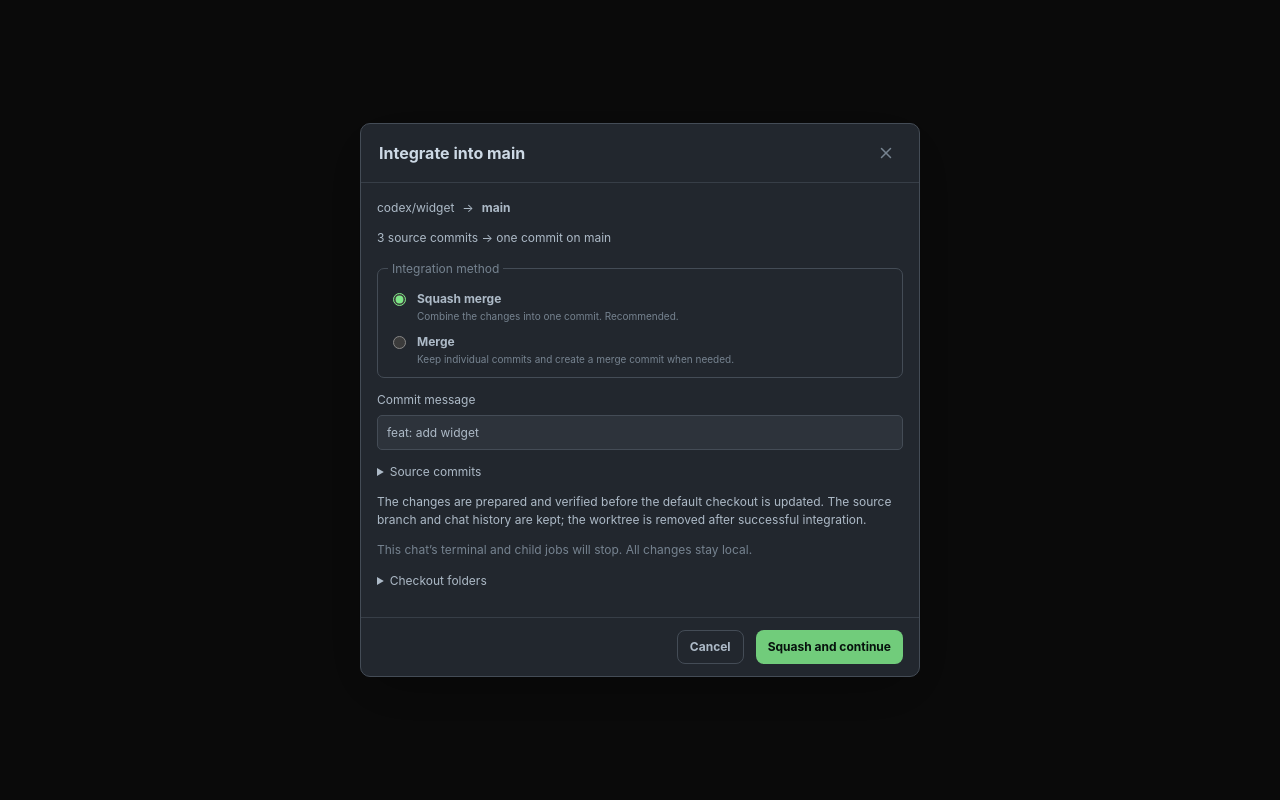
Test: requires a refreshed review after a rejected integration
Click the button "Squash and continue".
click(829, 647)  # box [756,630,903,664]
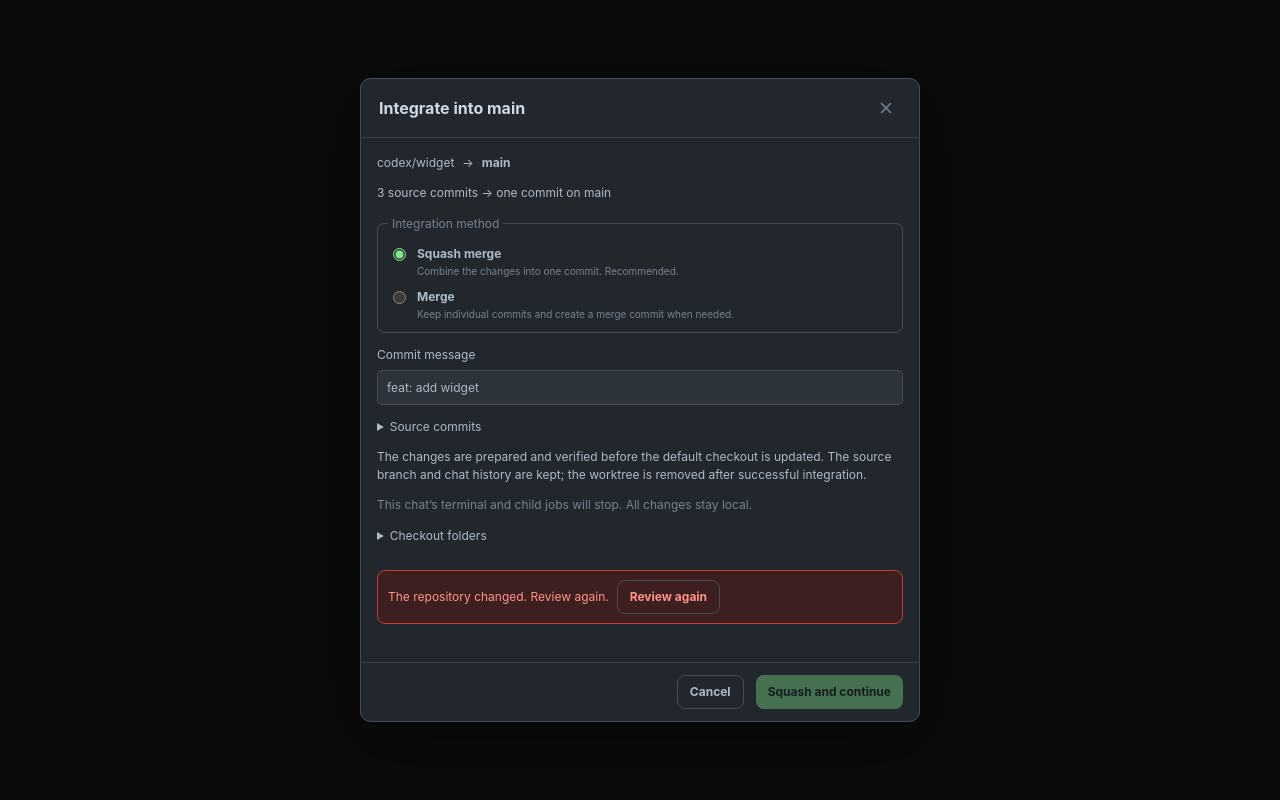
Result: the message "The repository changed. Review again. Review again" is shown at [377,570,903,624]
Result: the button "Squash and continue" is disabled at [756,675,903,709]
Click the button "Review again".
click(668, 597)  # box [617,580,720,614]
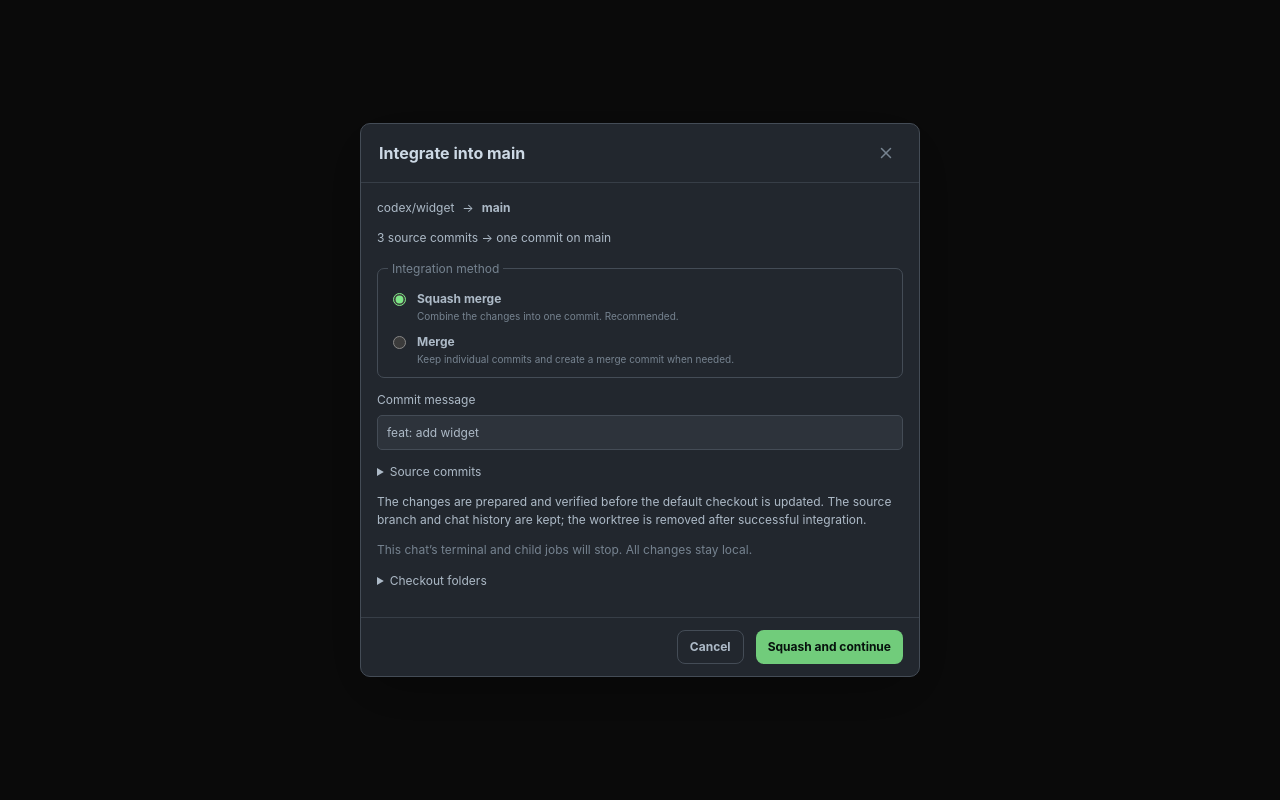
Result: the message "The repository changed. Review again. Review again" is gone
Result: the button "Squash and continue" is enabled at [756,630,903,664]
